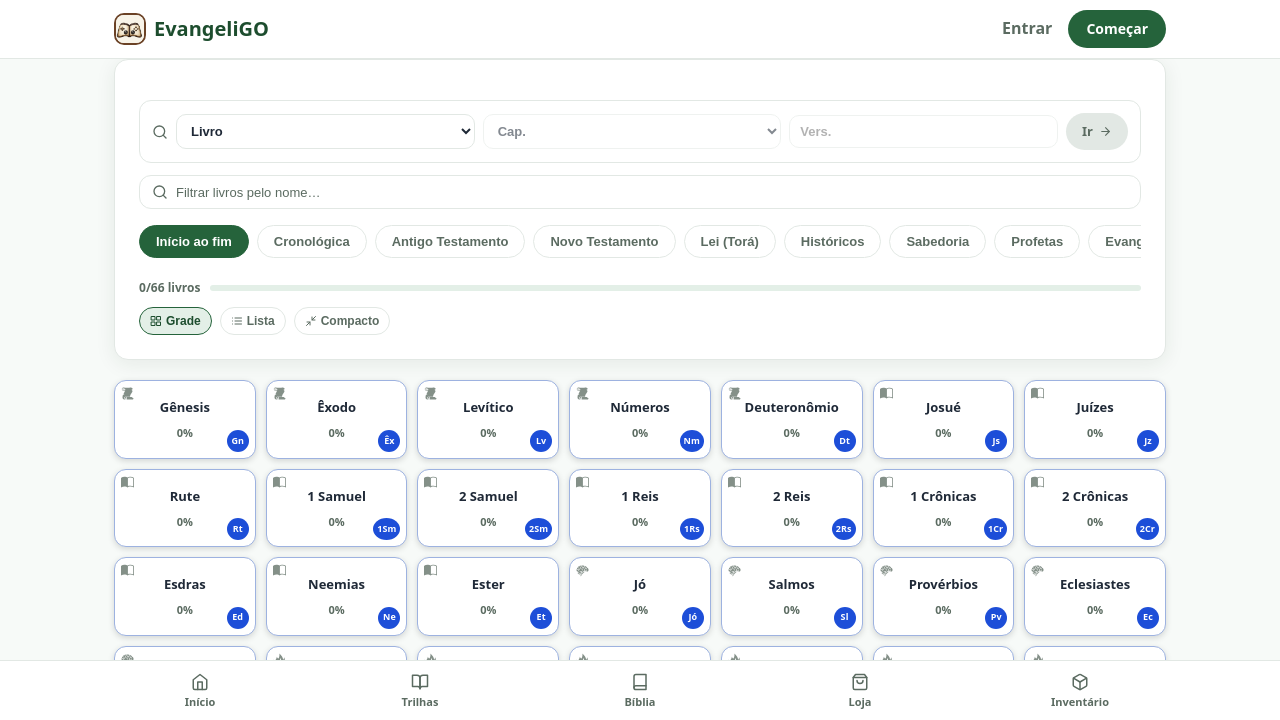
LivrosPage › filtro por nome do livro › digitar um nome estreita a grade só pros livros que combinam
The width and height of the screenshot is (1280, 720).
In the search field with placeholder "Filtrar livros pelo nome…": [652, 192] box [176,185,1128,200], type "gene"
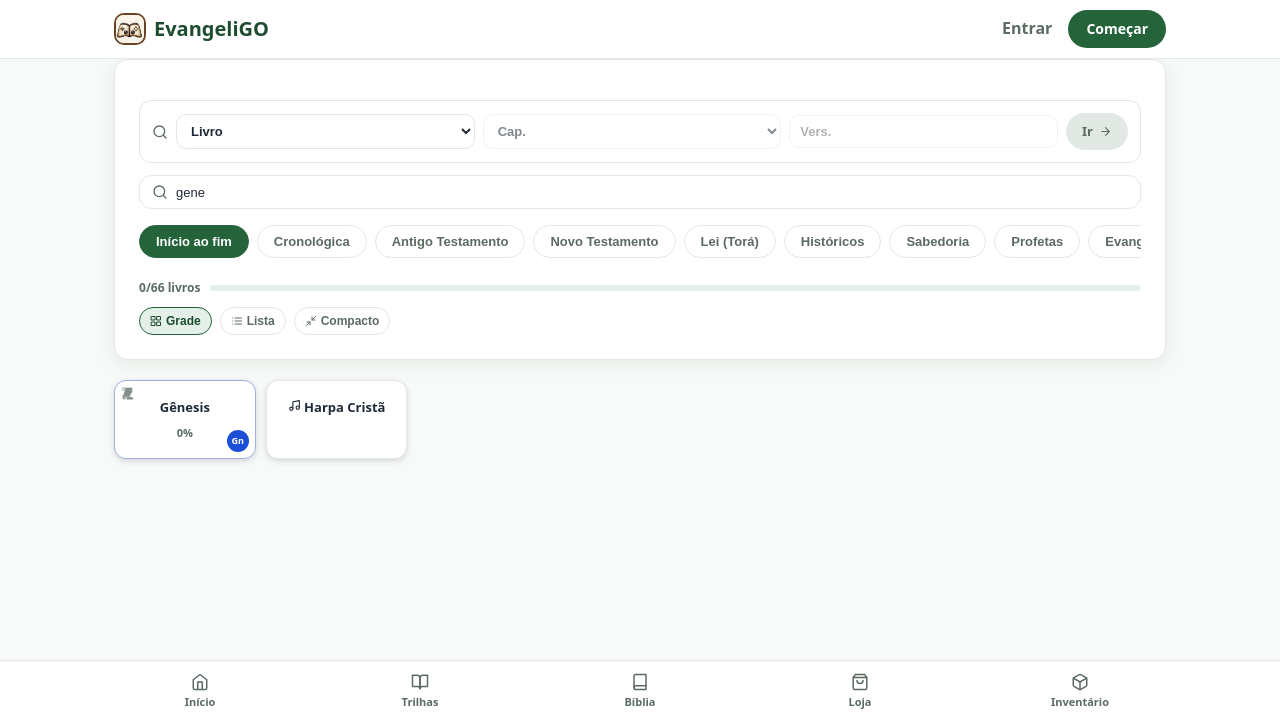
Check: the link "Gênesis 0% Gn" is shown, box [114,380,256,459]
Check: the link "Êxodo" is gone
